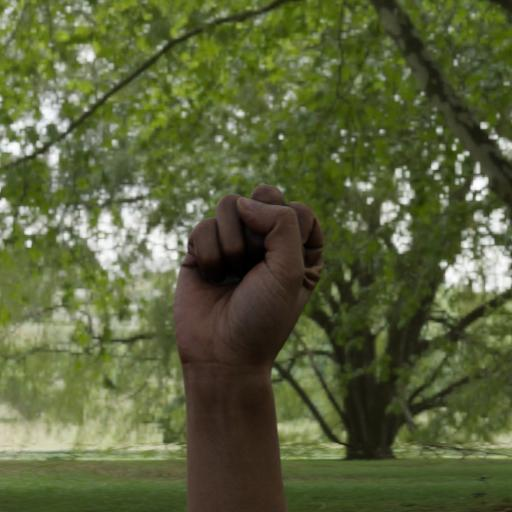S: (164, 184, 327, 364)
